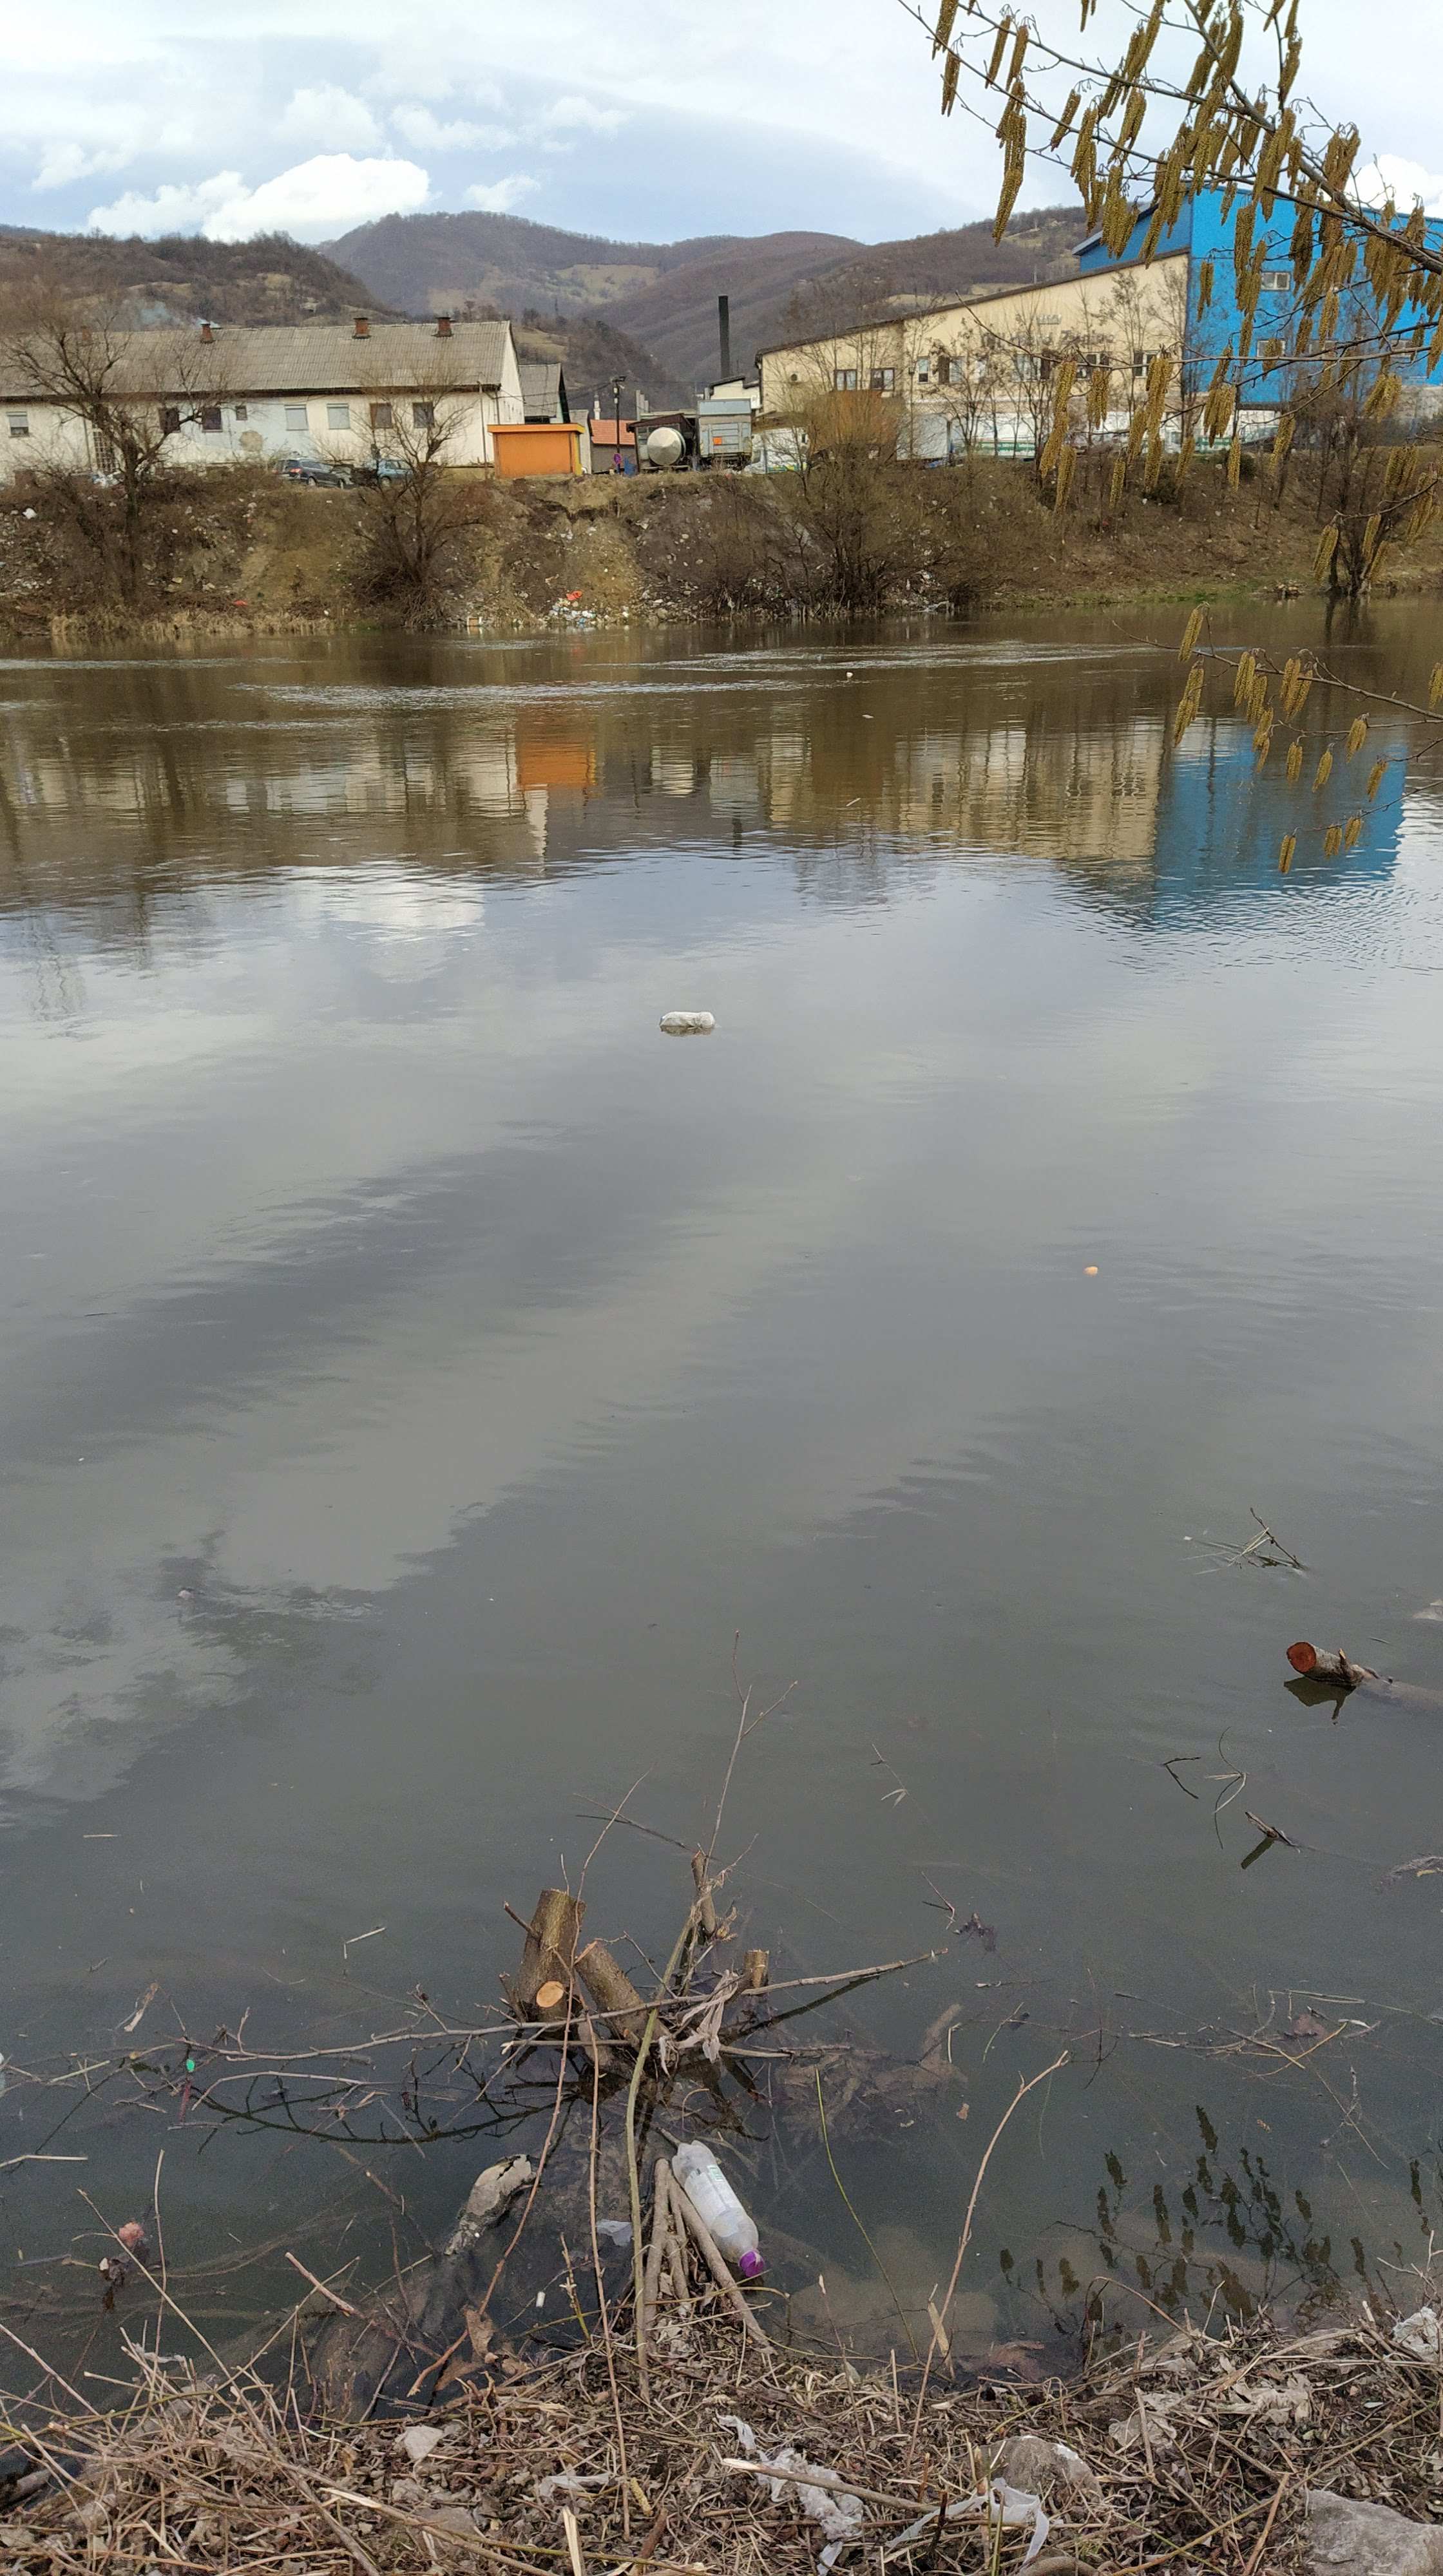Plastic Bottle: (671, 2139, 763, 2277), (660, 1010, 715, 1028), (816, 653, 823, 660), (864, 715, 871, 718), (848, 672, 852, 676)
